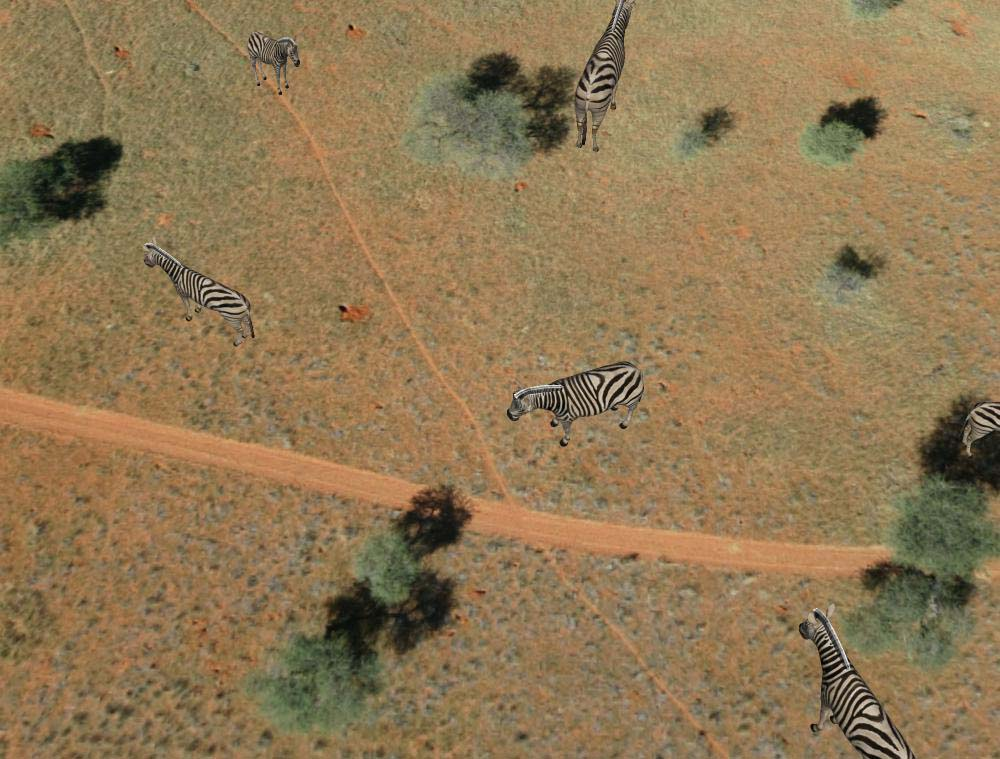zebra: (791, 604, 925, 759), (136, 231, 266, 346), (507, 358, 650, 448), (571, 2, 633, 153), (244, 27, 302, 99), (958, 397, 1000, 465)
